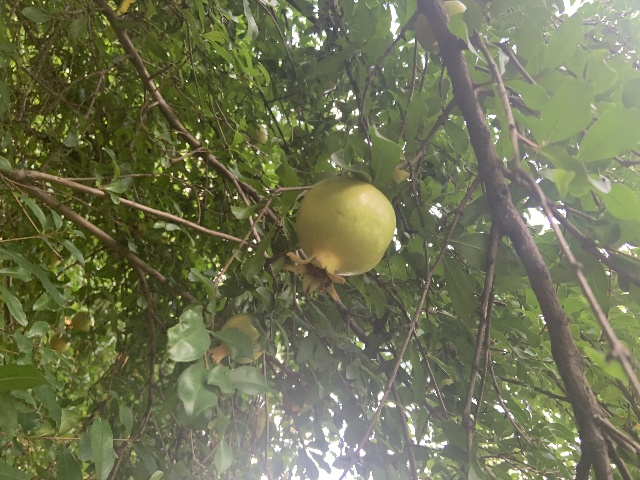mid-growth: (282, 177, 396, 302), (204, 313, 263, 370)
